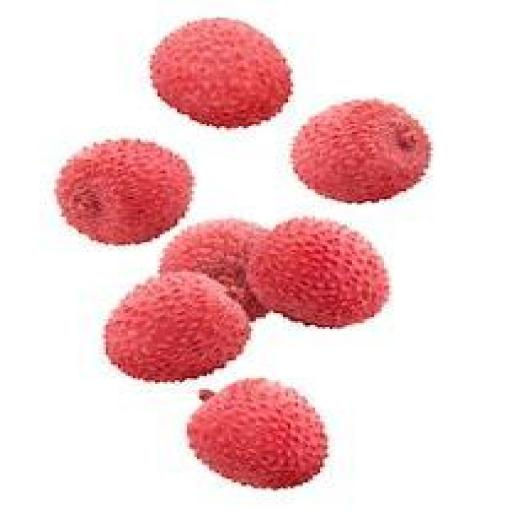lychee: (103, 272, 247, 382), (187, 379, 326, 488), (150, 18, 289, 127), (248, 219, 387, 326), (56, 140, 191, 244), (290, 101, 429, 202), (160, 219, 264, 319)
